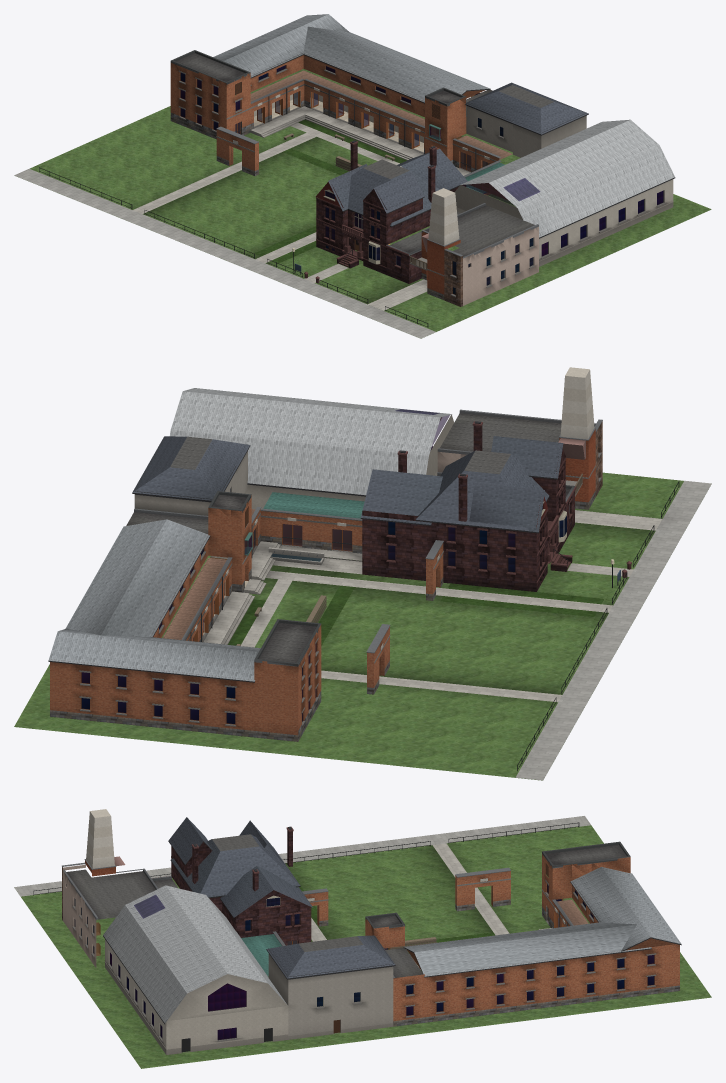
Rendered from woodsworth-college.glb.
The picture shows the model from 3 angles, top to bottom: view 1: azimuth 30°, elevation 25°; view 2: azimuth 150°, elevation 25°; view 3: azimuth 270°, elevation 25°; orthographic projection. The views are drawn at different scales.
Parts seen in each view (by area): view 1: WoodsworthCollege_Roof, WoodsworthCollege_Lawn, WoodsworthCollege_Trim, WoodsworthCollege_Brick, WoodsworthCollege_Paving, WoodsworthCollege_Stone, WoodsworthCollege_Glass, WoodsworthCollege_CurtainGlass; view 2: WoodsworthCollege_Roof, WoodsworthCollege_Lawn, WoodsworthCollege_Brick, WoodsworthCollege_Paving, WoodsworthCollege_Trim, WoodsworthCollege_Stone, WoodsworthCollege_Glass, WoodsworthCollege_CurtainGlass, WoodsworthCollege_Interior; view 3: WoodsworthCollege_Roof, WoodsworthCollege_Lawn, WoodsworthCollege_Trim, WoodsworthCollege_Brick, WoodsworthCollege_Stone, WoodsworthCollege_Paving, WoodsworthCollege_Glass, WoodsworthCollege_CurtainGlass.
Boxes of the visible parts, x1=… form: WoodsworthCollege_Roof: x1=176, y1=14, x2=674, y2=256; WoodsworthCollege_Lawn: x1=18, y1=69, x2=711, y2=338; WoodsworthCollege_Trim: x1=39, y1=50, x2=675, y2=327; WoodsworthCollege_Brick: x1=170, y1=55, x2=499, y2=294; WoodsworthCollege_Paving: x1=14, y1=96, x2=470, y2=338; WoodsworthCollege_Stone: x1=170, y1=100, x2=476, y2=306; WoodsworthCollege_Glass: x1=180, y1=65, x2=663, y2=294; WoodsworthCollege_CurtainGlass: x1=235, y1=92, x2=540, y2=205; WoodsworthCollege_Roof: x1=48, y1=388, x2=570, y2=681; WoodsworthCollege_Lawn: x1=14, y1=472, x2=710, y2=780; WoodsworthCollege_Brick: x1=50, y1=429, x2=595, y2=735; WoodsworthCollege_Paving: x1=203, y1=480, x2=711, y2=780; WoodsworthCollege_Trim: x1=48, y1=367, x2=679, y2=771; WoodsworthCollege_Stone: x1=50, y1=421, x2=602, y2=741; WoodsworthCollege_Glass: x1=81, y1=446, x2=569, y2=723; WoodsworthCollege_CurtainGlass: x1=193, y1=409, x2=449, y2=640; WoodsworthCollege_Interior: x1=245, y1=417, x2=441, y2=550; WoodsworthCollege_Roof: x1=66, y1=817, x2=681, y2=1023; WoodsworthCollege_Lawn: x1=20, y1=825, x2=711, y2=1068; WoodsworthCollege_Trim: x1=33, y1=809, x2=681, y2=1054; WoodsworthCollege_Brick: x1=85, y1=854, x2=679, y2=1021; WoodsworthCollege_Stone: x1=62, y1=830, x2=679, y2=1026; WoodsworthCollege_Paving: x1=14, y1=816, x2=590, y2=969; WoodsworthCollege_Glass: x1=74, y1=884, x2=654, y2=1039; WoodsworthCollege_CurtainGlass: x1=134, y1=895, x2=558, y2=949.
Size of the model in its own units: 89.5 by 17.65 by 104.
9 materials, 8 textured.
